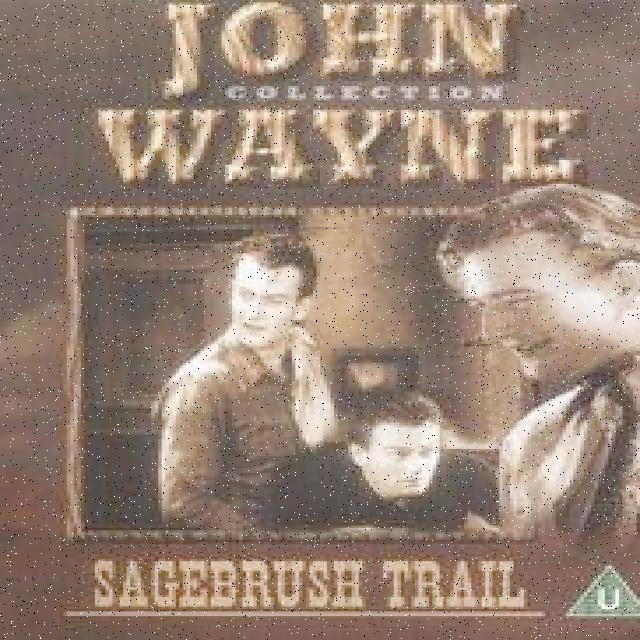movie-judul: (73, 557, 550, 621)
picture: (70, 184, 640, 544)
